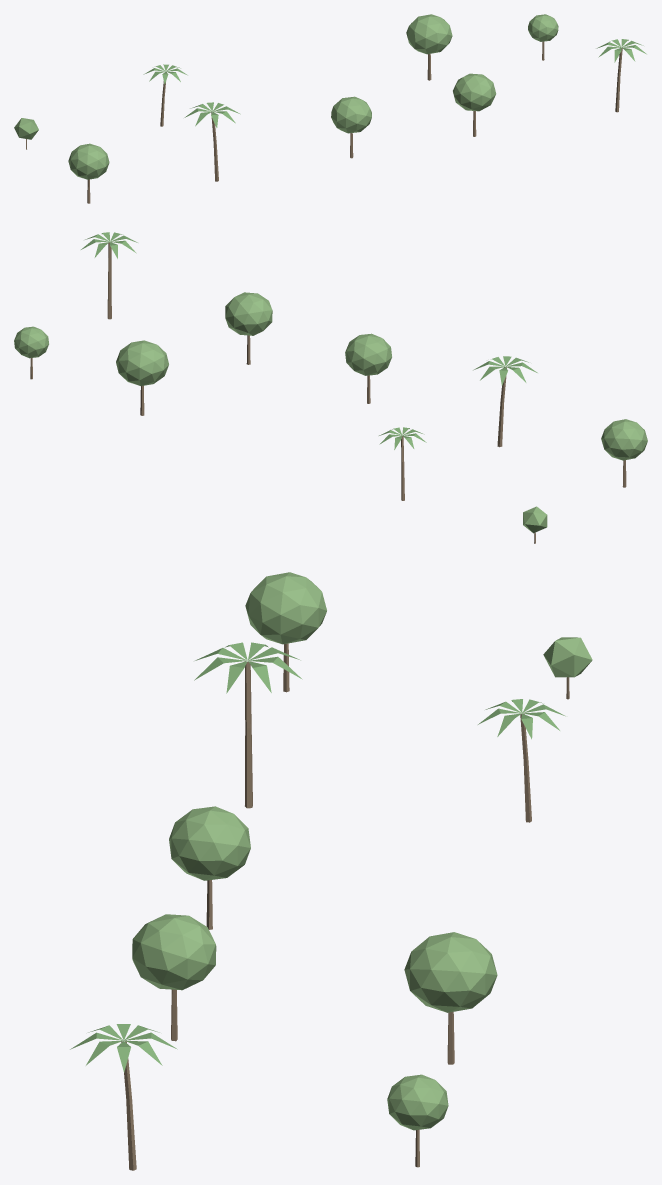
File: nature_6_-3.glb
3 views of the same model, one above another, from view 1: azimuth 30°, elevation 25°; view 2: azimuth 150°, elevation 25°; view 3: azimuth 270°, elevation 25° (orthographic). The views are drawn at different scales.
Visible parts, largest first — view 1: foliage_b, palm_leaf, trunk; view 2: foliage_b, palm_leaf, trunk; view 3: foliage_b, palm_leaf, trunk.
Boxes of the visible parts, x1,y1,x2,y2 form: foliage_b: (14,14,558,179); palm_leaf: (143,39,646,127); trunk: (26,41,622,203); foliage_b: (14,292,647,533); palm_leaf: (81,232,537,449); trunk: (30,242,626,543); foliage_b: (132,572,592,1130); palm_leaf: (70,642,565,1072); trunk: (121,643,569,1170).
Size of the model in its own units: 63.75 by 8.4 by 27.14.
